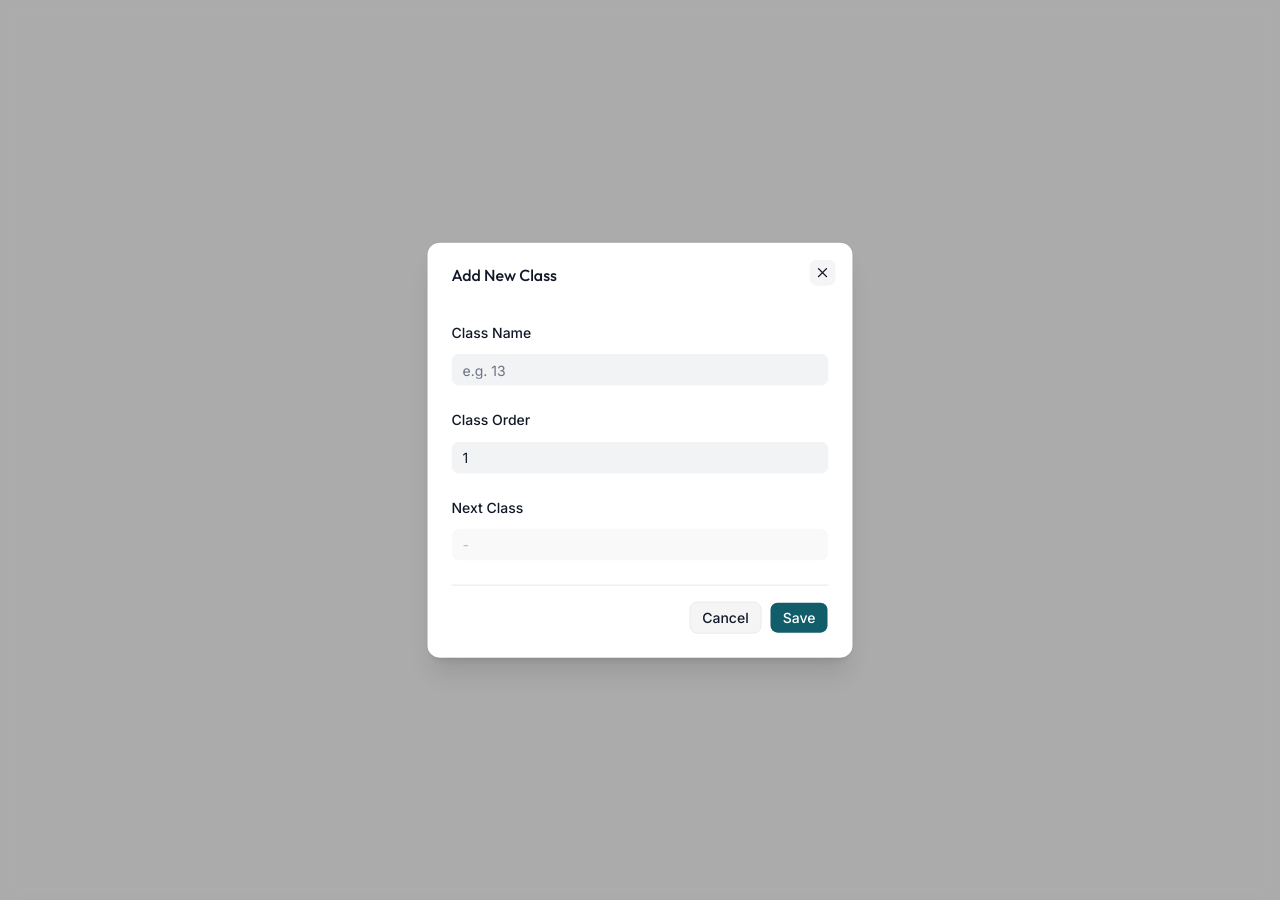
Test: KelasFormDialog Component › should display validation error when submitting empty form
Click the button "Save": (799, 617) [770,601,828,633]
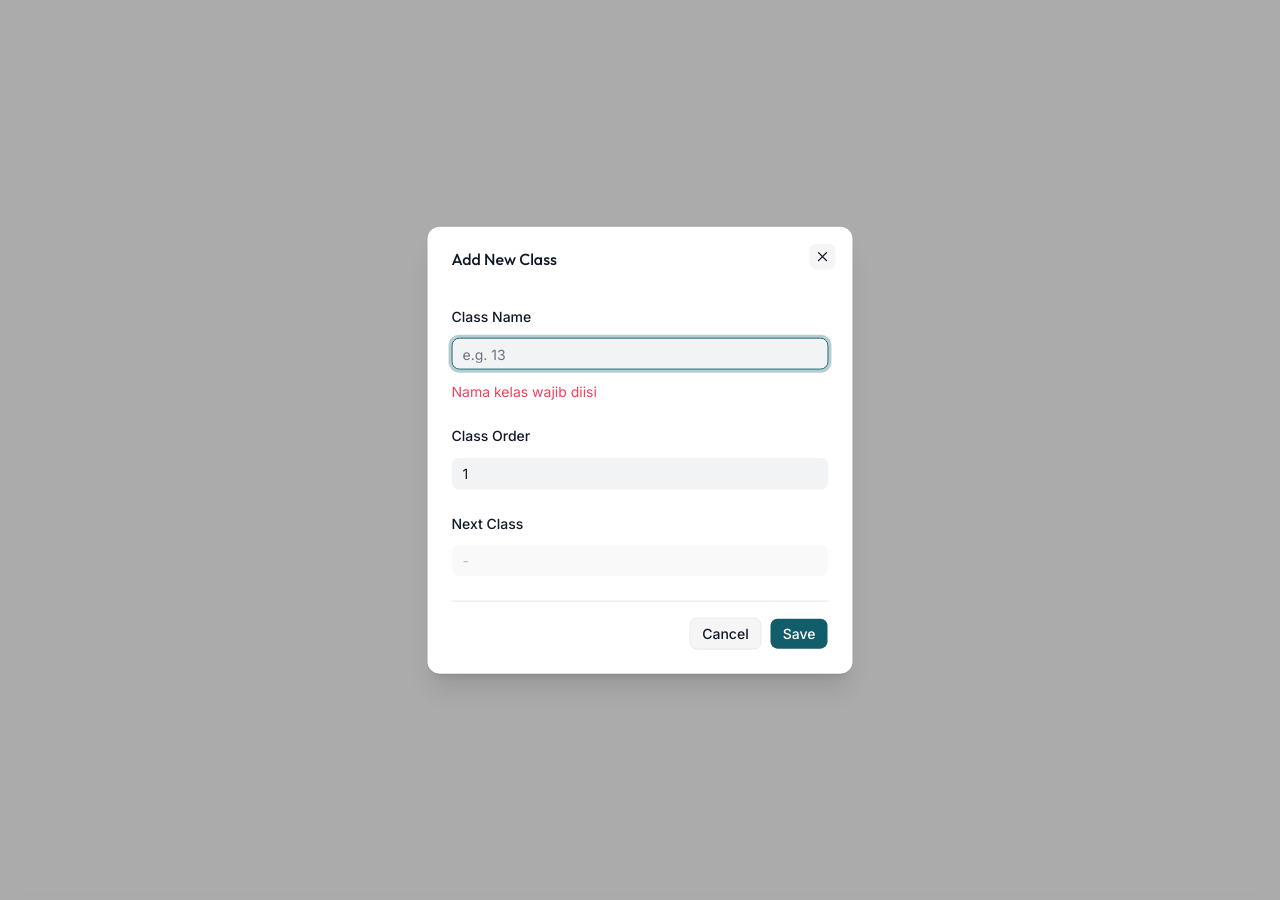
Now the text "Nama kelas wajib diisi" is shown, box [452,383,597,400]
